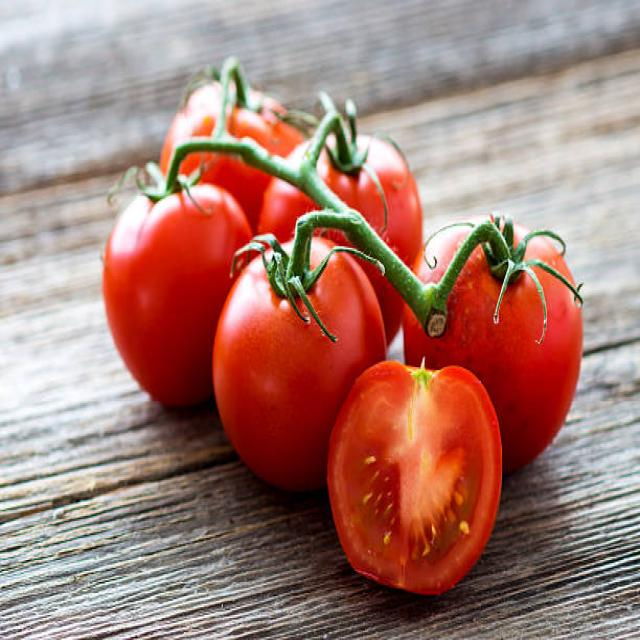Tomato: (321, 348, 541, 617)
